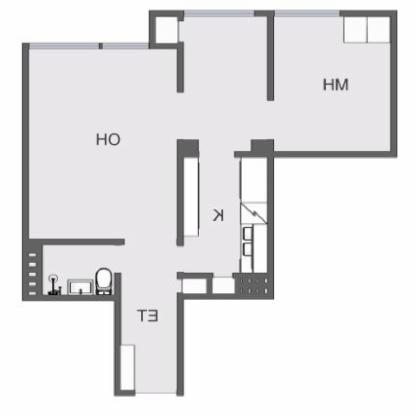window: (183, 8, 256, 20), (28, 40, 99, 50), (103, 42, 150, 52), (274, 10, 342, 16)
zone: (27, 47, 176, 239), (154, 14, 274, 154), (274, 17, 392, 151), (182, 158, 272, 295), (117, 238, 179, 393), (40, 242, 117, 296)
